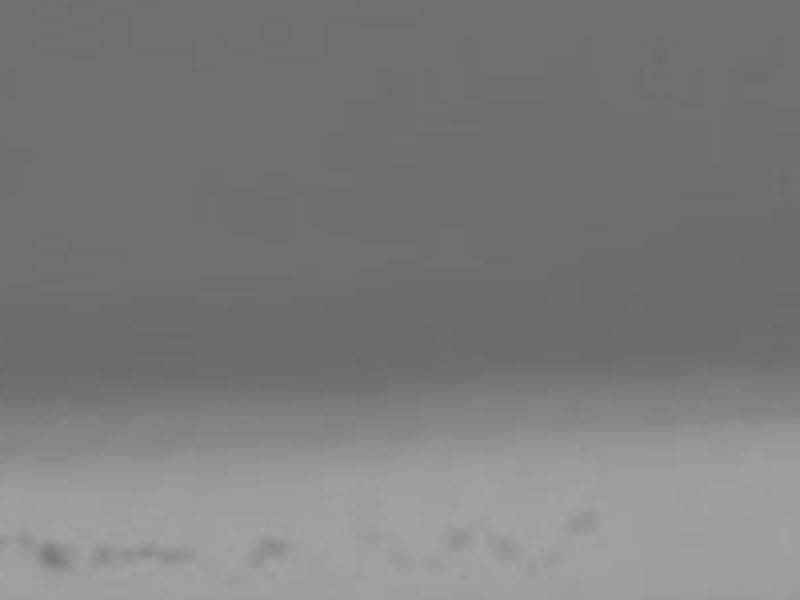defect: (248, 537, 291, 571), (38, 540, 75, 571), (488, 533, 527, 562), (574, 507, 602, 538), (88, 540, 113, 570), (1, 527, 35, 547), (421, 556, 445, 583), (543, 549, 567, 576), (446, 522, 471, 547), (393, 548, 418, 572), (158, 549, 199, 563), (130, 540, 154, 556), (116, 546, 136, 563)
